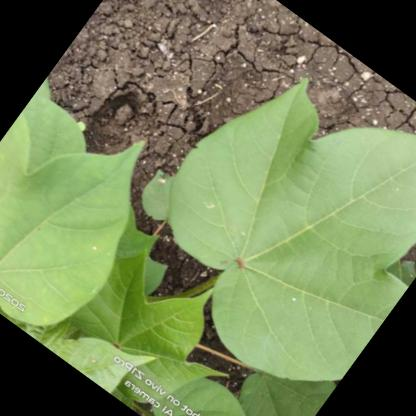cotton: (92, 3, 416, 413), (0, 62, 174, 328)
